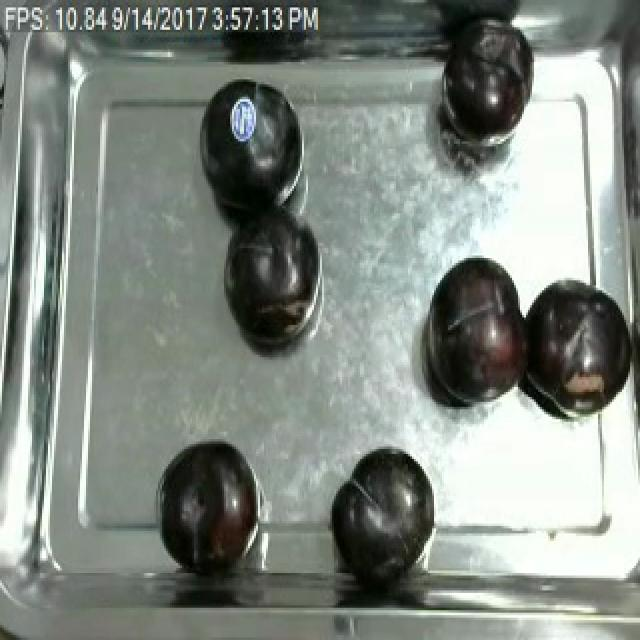Fruit: (418, 243, 544, 414), (192, 74, 312, 221), (324, 439, 444, 578), (152, 432, 270, 573), (220, 191, 322, 347), (518, 278, 628, 422), (434, 7, 540, 149)
